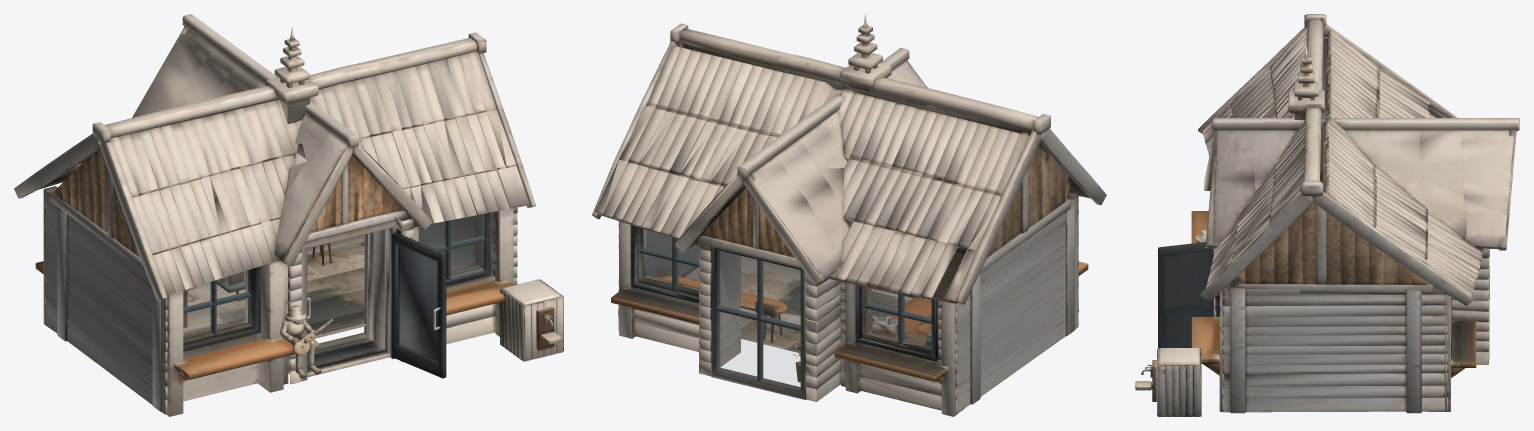
File: coffee-cabin-mobile-v01.glb
The picture shows the model from 3 angles, left to right: view 1: azimuth 30°, elevation 25°; view 2: azimuth 150°, elevation 25°; view 3: azimuth 270°, elevation 25°; orthographic projection. The views are drawn at different scales.
Visible parts, largest first — view 1: cabin, Window_Glass_Front_Left, Window_Glass_Front_Right; view 2: cabin, Window_Glass_Rear_Tall, Window_Glass_Rear_Left, Window_Glass_Rear_Right, Window_Cross_Rear_Tall_Vertical, Window_Cross_Rear_Tall_Horizontal; view 3: cabin.
Boxes of the visible parts, <box> form: cabin: <box>14,14,563,416</box>; Window_Glass_Front_Left: <box>184,270,248,338</box>; Window_Glass_Front_Right: <box>419,214,483,276</box>; cabin: <box>592,14,1106,416</box>; Window_Glass_Rear_Tall: <box>718,251,799,388</box>; Window_Glass_Rear_Left: <box>867,288,930,348</box>; Window_Glass_Rear_Right: <box>642,229,698,291</box>; Window_Cross_Rear_Tall_Vertical: <box>757,260,763,380</box>; Window_Cross_Rear_Tall_Horizontal: <box>716,305,800,330</box>; cabin: <box>1135,14,1519,416</box>.
Size of the model in its own units: 0.9995 by 0.7847 by 0.9487.
Materials: 5 (1 with a texture image).
